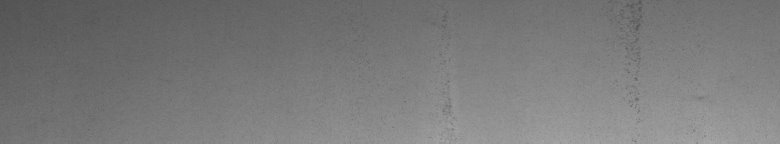ib: (627, 4, 704, 112)
